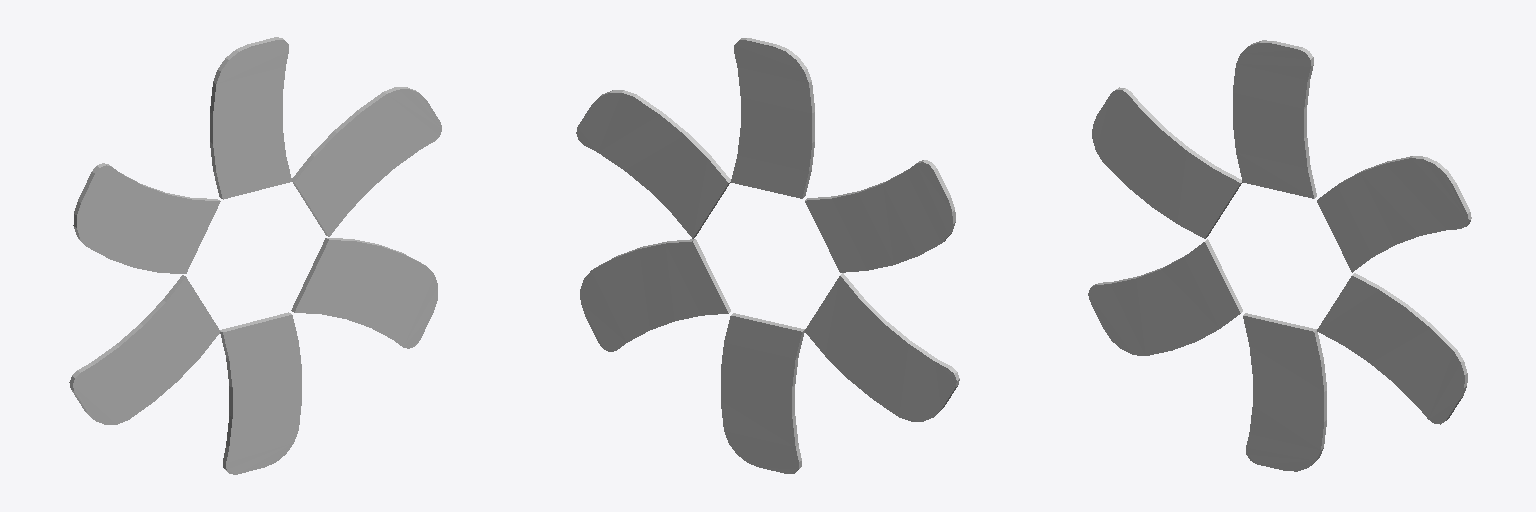
File: fan-leaf.obj
3 renders of one model, left to right at view 1: azimuth 30°, elevation 25°; view 2: azimuth 150°, elevation 25°; view 3: azimuth 330°, elevation 25°, orthographic.
Visible parts, largest first — view 1: Fan; view 2: Fan; view 3: Fan.
Part boxes in pixels (x1,y1,x2,y2): Fan: (69,37,441,474); Fan: (576,38,959,473); Fan: (1088,40,1471,471).
Size of the model in its own units: 0.8544 by 0.923 by 0.0341.